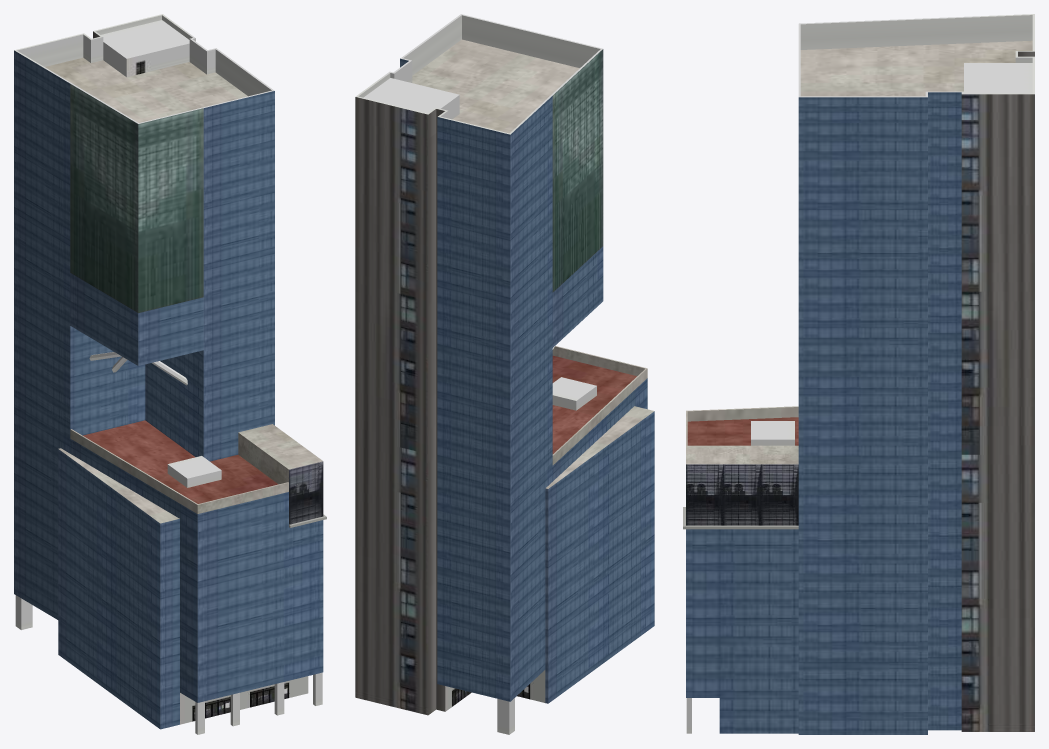
3 views of the same model, side by side, from view 1: azimuth 30°, elevation 25°; view 2: azimuth 150°, elevation 25°; view 3: azimuth 270°, elevation 25° (orthographic). The views are drawn at different scales.
Parts seen in each view (by area): view 1: HN454___Cuc_tan_so_vo_tuyen_dien; view 2: HN454___Cuc_tan_so_vo_tuyen_dien; view 3: HN454___Cuc_tan_so_vo_tuyen_dien.
Boxes of the visible parts, x1,y1,x2,y2 form: HN454___Cuc_tan_so_vo_tuyen_dien: (14, 14, 326, 734); HN454___Cuc_tan_so_vo_tuyen_dien: (355, 14, 654, 734); HN454___Cuc_tan_so_vo_tuyen_dien: (683, 14, 1034, 734).
Size of the model in its own units: 35 by 125 by 62.5.
1 material, 1 textured.
